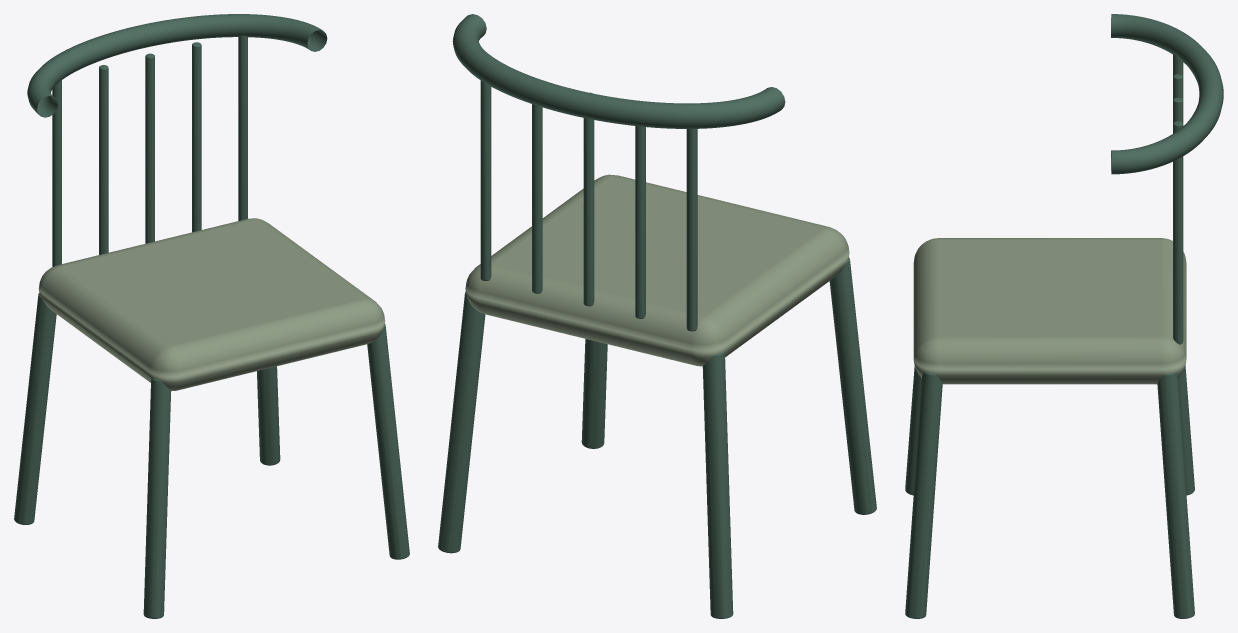
The model's file is chair.glb.
The picture shows the model from 3 angles, left to right: view 1: azimuth 30°, elevation 25°; view 2: azimuth 150°, elevation 25°; view 3: azimuth 270°, elevation 25°; orthographic projection. The views are drawn at different scales.
Parts seen in each view (by area): view 1: garden-conservatory chair; view 2: garden-conservatory chair; view 3: garden-conservatory chair.
Boxes of the visible parts, x1,y1,x2,y2 form: garden-conservatory chair: (14,14,409,618); garden-conservatory chair: (438,14,876,618); garden-conservatory chair: (905,14,1223,618).
Bounding box in the file's own units: 0.624 × 0.933 × 0.5722.
